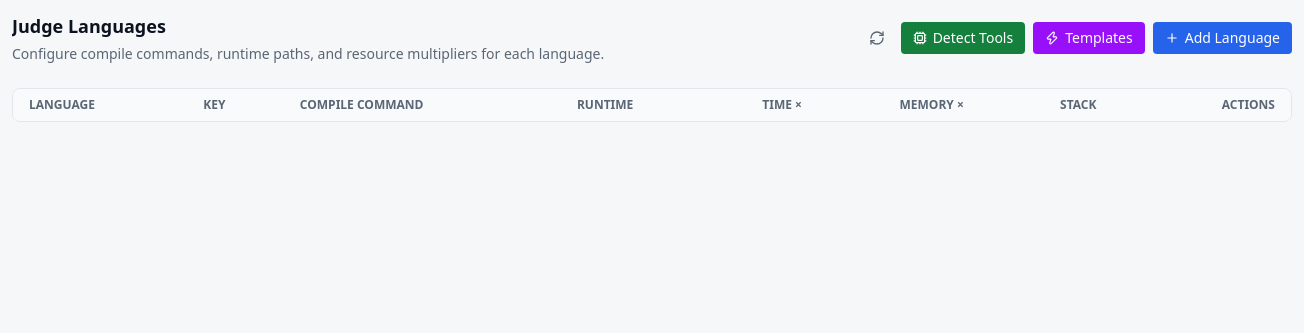
Detect renders an empty state instead of blanking when the response has no lists
Expected: the heading "Judge Languages" is shown, [12,14,166,38]
Click the button "Detect Tools".
click(963, 38)  # box [901,22,1025,54]
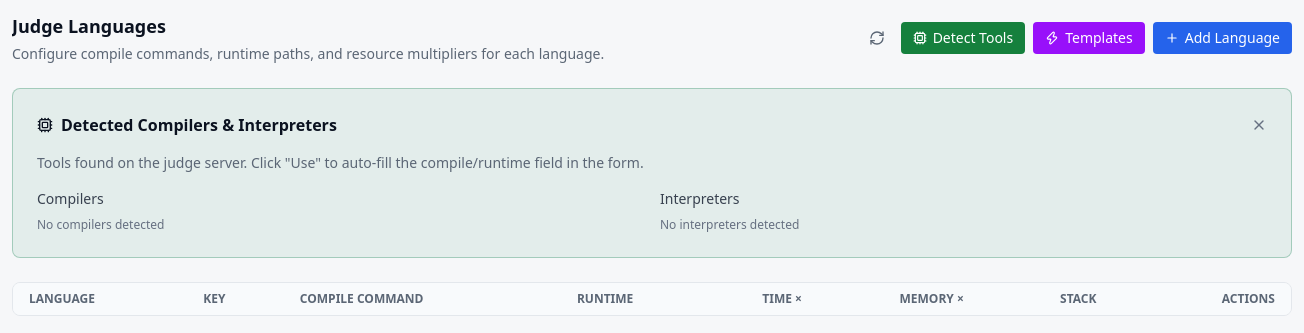
Expected: the text "No compilers detected" is shown, [37,217,164,233]
Expected: the text "No interpreters detected" is shown, [660,217,799,233]
